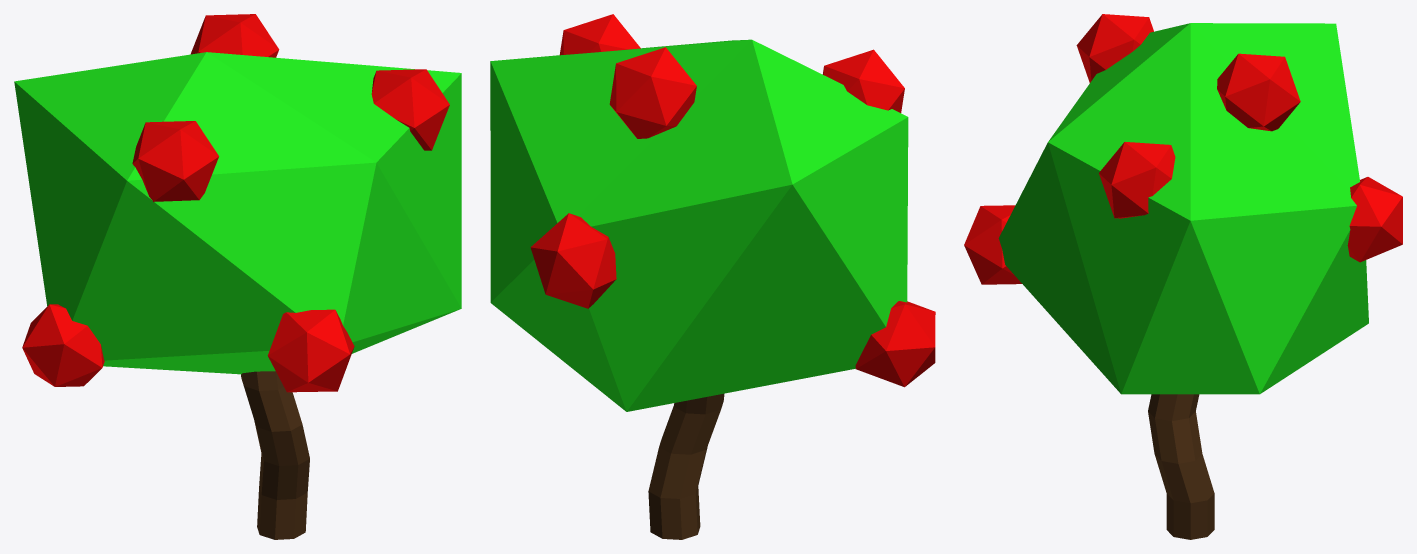
File: BerryBush.glb
The picture shows the model from 3 angles, left to right: view 1: azimuth 30°, elevation 25°; view 2: azimuth 150°, elevation 25°; view 3: azimuth 270°, elevation 25°; orthographic projection. The views are drawn at different scales.
Visible parts, largest first — view 1: Icokugel.003, Icokugel.006; view 2: Icokugel.003, Icokugel.006; view 3: Icokugel.003, Icokugel.006.
Part boxes in pixels (bbox=[...]): Icokugel.003: bbox=[14, 52, 461, 539]; Icokugel.006: bbox=[22, 14, 449, 392]; Icokugel.003: bbox=[490, 39, 908, 539]; Icokugel.006: bbox=[530, 14, 935, 387]; Icokugel.003: bbox=[998, 23, 1368, 539]; Icokugel.006: bbox=[964, 14, 1402, 284].
Bounding box in the file's own units: 0.5871 × 0.6372 × 0.537.
